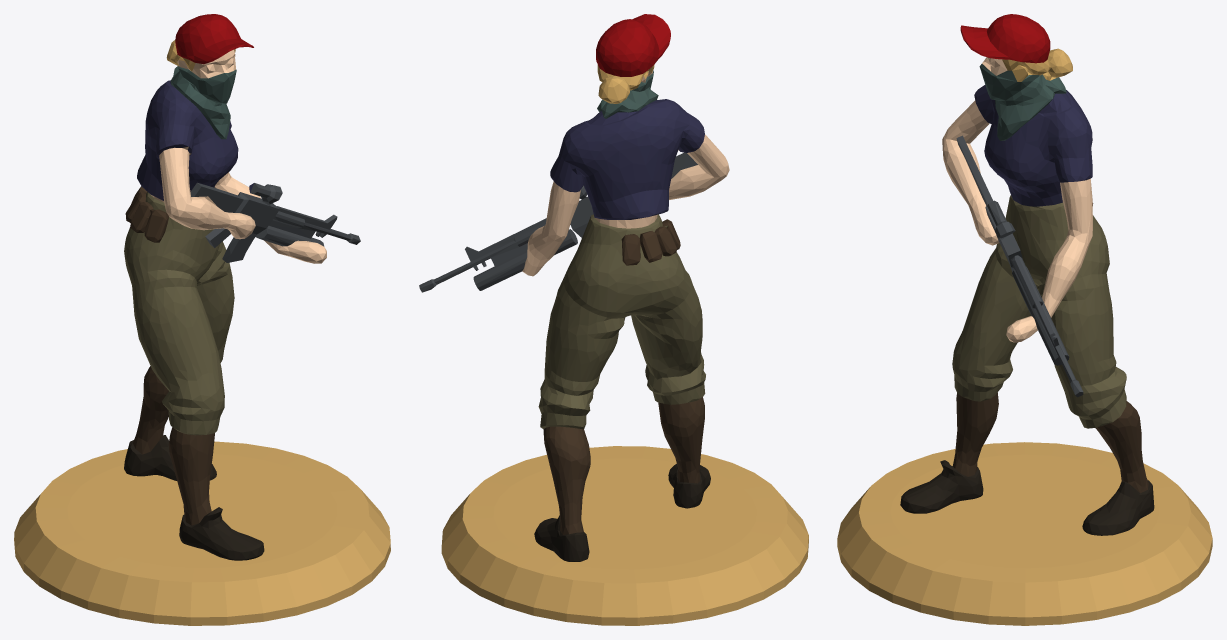
Rendered from Ch_Man_02.fbx.
3 views of the same model, side by side, from view 1: azimuth 30°, elevation 25°; view 2: azimuth 150°, elevation 25°; view 3: azimuth 270°, elevation 25° (orthographic). The views are drawn at different scales.
Visible parts, largest first — view 1: Ch_Man_02; view 2: Ch_Man_02; view 3: Ch_Man_02.
Boxes of the visible parts, <box> form: Ch_Man_02: <box>14,14,390,625</box>; Ch_Man_02: <box>419,14,808,625</box>; Ch_Man_02: <box>837,14,1212,625</box>.
Bounding box in the file's own units: 113 × 166 × 106.
